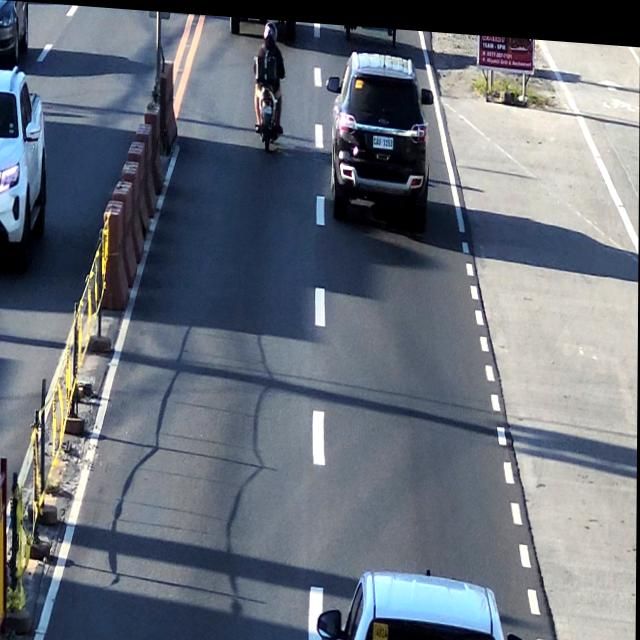Car: (328, 44, 425, 218), (325, 566, 524, 640)
License-Plate: (371, 126, 395, 147)
Motorcycle: (254, 19, 282, 151)
